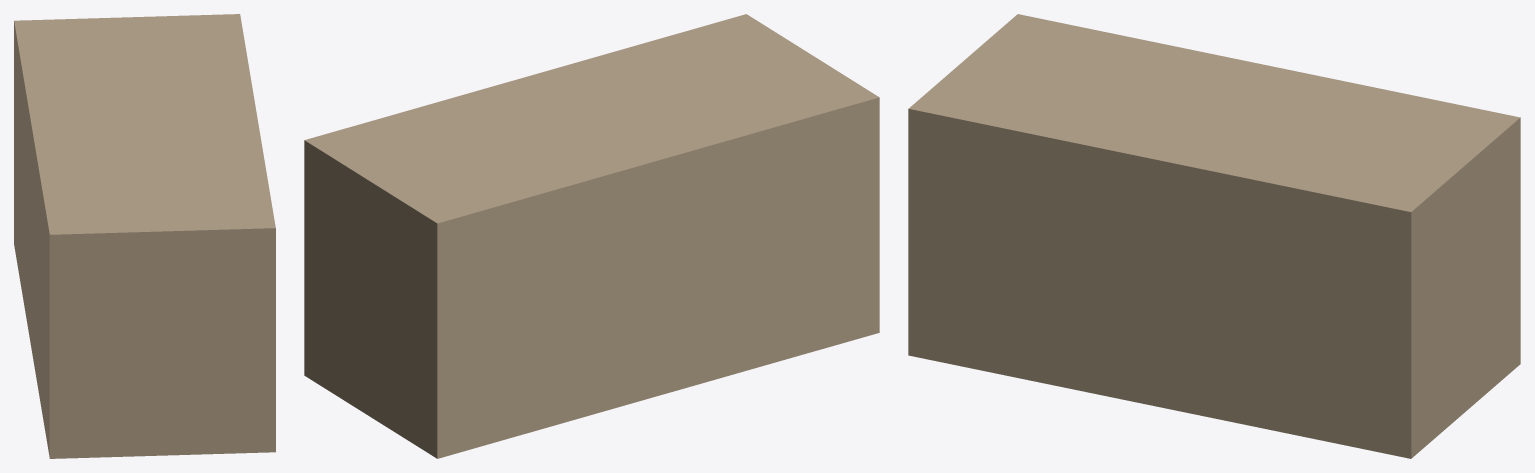
Rendered from bld_101374773.dae.
3 views of the same model, side by side, from view 1: azimuth 30°, elevation 25°; view 2: azimuth 150°, elevation 25°; view 3: azimuth 270°, elevation 25° (orthographic). The views are drawn at different scales.
Parts seen in each view (by area): view 1: bld_101374773; view 2: bld_101374773; view 3: bld_101374773.
Part boxes in pixels (box(x1,y1,x2,y2)): bld_101374773: box(14, 14, 275, 458); bld_101374773: box(304, 14, 879, 458); bld_101374773: box(908, 14, 1520, 458).
Bounding box in the file's own units: 13.78 × 17.98 × 8.
